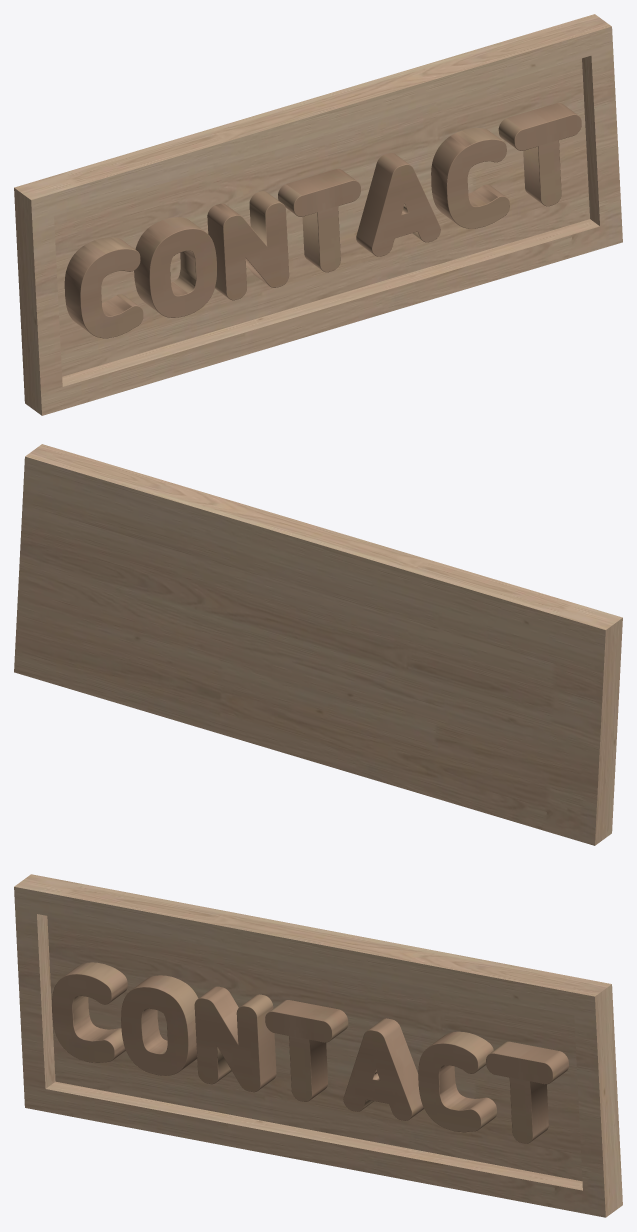
Rendered from signContact.glb.
3 renders of one model, top to bottom at view 1: azimuth 30°, elevation 25°; view 2: azimuth 150°, elevation 25°; view 3: azimuth 330°, elevation 25°, orthographic.
Parts seen in each view (by area): view 1: signage_contact; view 2: signage_contact; view 3: signage_contact.
Boxes of the visible parts, bbox=[...] form: signage_contact: bbox=[14, 14, 622, 415]; signage_contact: bbox=[14, 444, 622, 845]; signage_contact: bbox=[14, 874, 622, 1217].
Size of the model in its own units: 0.8007 by 0.3236 by 0.0538.
Materials: 1 (1 with a texture image).
